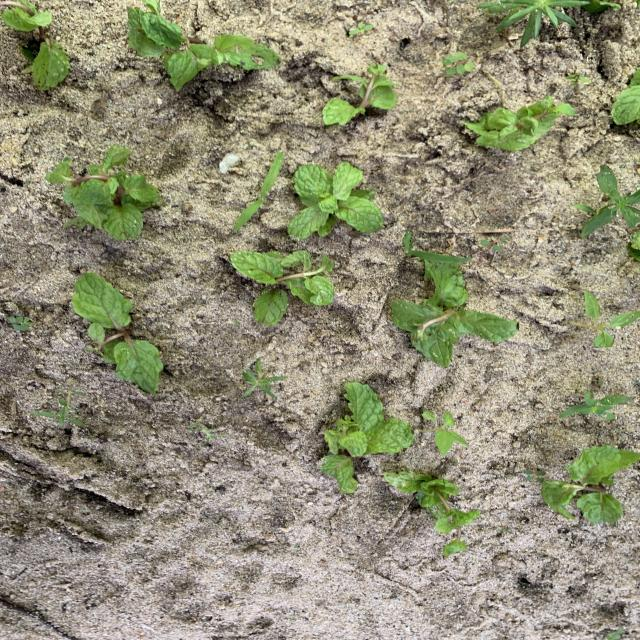crop: (391, 259, 516, 367), (127, 0, 279, 88), (73, 272, 163, 393), (47, 146, 161, 239), (321, 382, 413, 491), (384, 470, 479, 555), (231, 251, 333, 325), (541, 446, 639, 523), (289, 163, 383, 238), (463, 96, 574, 150), (2, 4, 70, 89), (322, 64, 396, 123), (613, 68, 639, 123), (630, 229, 639, 259)
weed: (575, 165, 640, 237), (480, 1, 577, 44), (564, 291, 639, 346), (236, 152, 283, 229), (403, 232, 470, 264), (422, 410, 468, 456), (560, 391, 630, 419), (242, 366, 286, 399), (190, 416, 228, 445), (444, 52, 473, 74), (8, 316, 31, 331), (525, 467, 545, 481), (480, 240, 503, 252), (349, 23, 373, 34), (566, 73, 590, 84), (607, 628, 623, 639)
